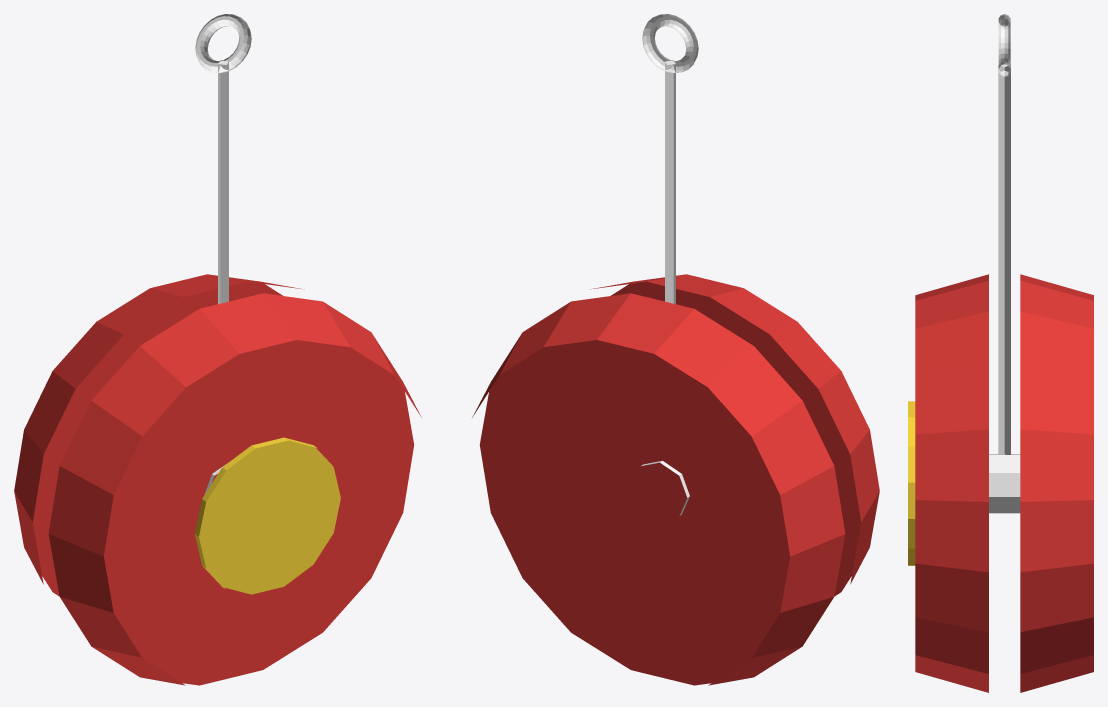
The model's file is jojo.glb.
The picture shows the model from 3 angles, left to right: view 1: azimuth 30°, elevation 25°; view 2: azimuth 150°, elevation 25°; view 3: azimuth 270°, elevation 25°; orthographic projection.
Parts seen in each view (by area): view 1: jojo; view 2: jojo; view 3: jojo.
Boxes of the visible parts, bbox=[...] form: jojo: bbox=[14, 14, 421, 685]; jojo: bbox=[472, 14, 879, 685]; jojo: bbox=[908, 14, 1093, 692].
Size of the model in its own units: 0.2 by 0.3433 by 0.0885.
